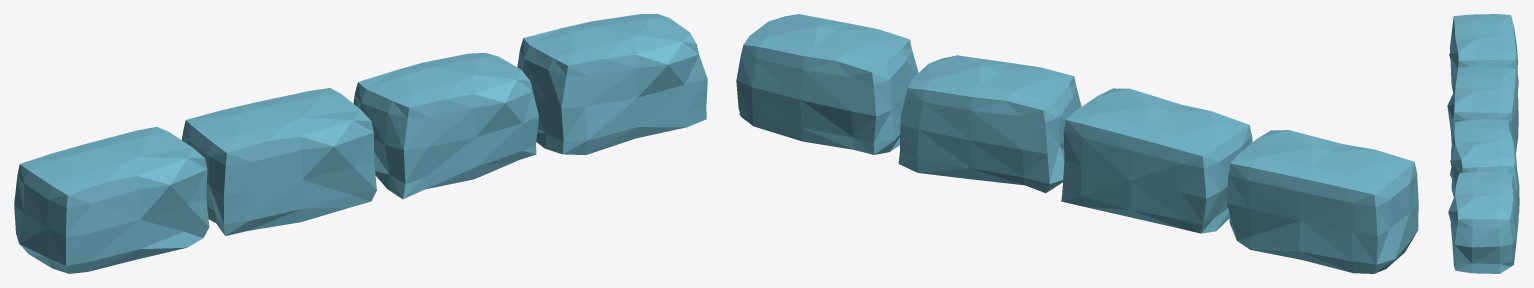
3 renders of one model, left to right at view 1: azimuth 30°, elevation 25°; view 2: azimuth 150°, elevation 25°; view 3: azimuth 270°, elevation 25°, orthographic. The views are drawn at different scales.
Visible parts, largest first — view 1: Cube, Cube.001, Cube.003, Cube.002; view 2: Cube, Cube.001, Cube.003, Cube.002; view 3: Cube.003, Cube.001, Cube, Cube.002.
Boxes of the visible parts, x1,y1,x2,y2 form: Cube: [14, 126, 209, 273]; Cube.001: [182, 88, 376, 235]; Cube.003: [517, 14, 707, 155]; Cube.002: [353, 53, 538, 199]; Cube: [1226, 130, 1418, 273]; Cube.001: [1061, 88, 1252, 233]; Cube.003: [736, 14, 918, 154]; Cube.002: [898, 55, 1081, 193]; Cube.003: [1448, 172, 1518, 273]; Cube.001: [1447, 66, 1518, 151]; Cube: [1449, 14, 1518, 92]; Cube.002: [1450, 119, 1519, 213].
Bounding box in the file's own units: 76.88 × 11.19 × 10.43.
